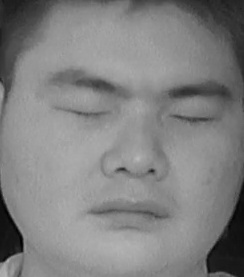blink: (56, 94, 113, 127), (173, 101, 218, 134)
mouth: (88, 187, 174, 236)
